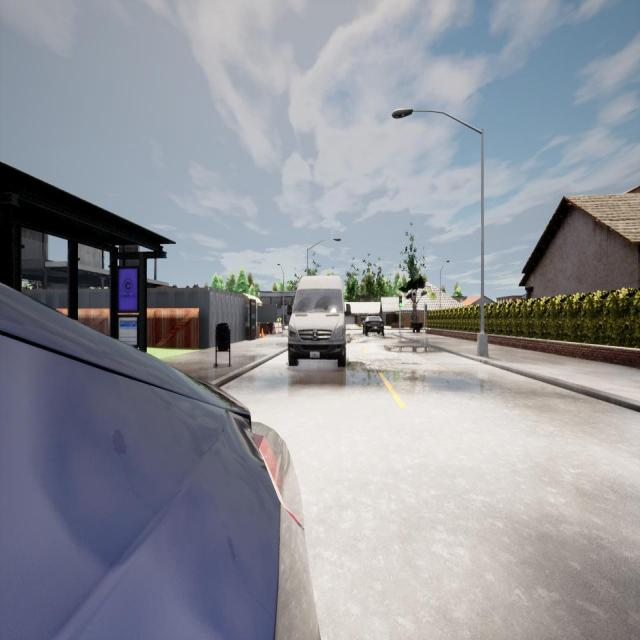Vehicle: (0, 284, 319, 638), (286, 276, 351, 366), (362, 316, 384, 336)
traffic_light: (399, 295, 402, 307), (425, 304, 427, 312)
